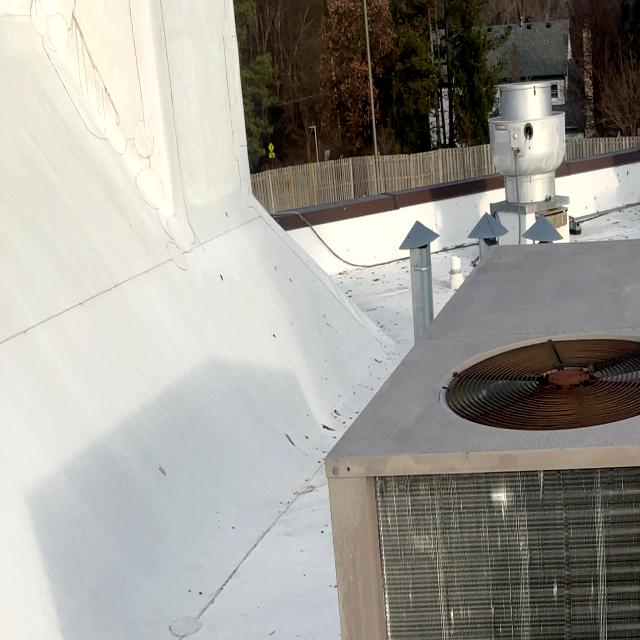GRAVITY-VENT: (484, 78, 570, 244), (397, 211, 442, 349), (469, 207, 510, 267)
RTU: (317, 230, 640, 640)
